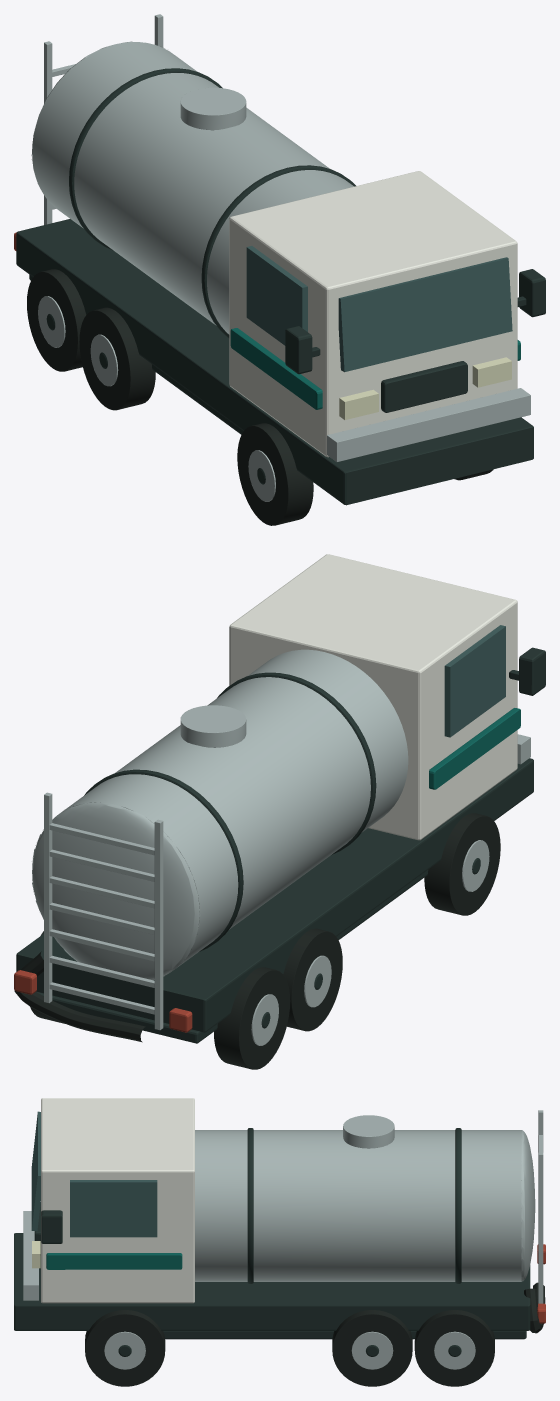
The model's file is tanker.glb.
The picture shows the model from 3 angles, top to bottom: view 1: azimuth 30°, elevation 25°; view 2: azimuth 150°, elevation 25°; view 3: azimuth 270°, elevation 25°; orthographic projection. The views are drawn at different scales.
Visible parts, largest first — view 1: Brushed stainless steel.001, Truck enamel.001, Powder coated charcoal.001, Tinted glazing.001, Rubber.001, NouDilo vehicle livery.001, Headlamp glass; view 2: Brushed stainless steel.001, Truck enamel.001, Powder coated charcoal.001, Rubber.001, Tinted glazing.001, NouDilo vehicle livery.001, Rear reflectors; view 3: Brushed stainless steel.001, Powder coated charcoal.001, Truck enamel.001, Rubber.001, Tinted glazing.001, NouDilo vehicle livery.001.
Boxes of the visible parts, x1,y1,x2,y2 form: Brushed stainless steel.001: (31, 14, 530, 501); Truck enamel.001: (229, 171, 517, 457); Powder coated charcoal.001: (16, 68, 545, 505); Tinted glazing.001: (246, 246, 512, 372); Rubber.001: (27, 269, 493, 525); NouDilo vehicle livery.001: (230, 328, 520, 409); Headlamp glass: (339, 357, 511, 419); Brushed stainless steel.001: (32, 649, 530, 1045); Truck enamel.001: (229, 554, 517, 840); Powder coated charcoal.001: (16, 647, 545, 1043); Rubber.001: (14, 813, 500, 1069); Tinted glazing.001: (444, 625, 505, 737); NouDilo vehicle livery.001: (429, 708, 520, 789); Rear reflectors: (14, 970, 192, 1032); Brushed stainless steel.001: (23, 1110, 543, 1369); Powder coated charcoal.001: (14, 1128, 530, 1356); Truck enamel.001: (41, 1098, 194, 1303); Rubber.001: (85, 1282, 545, 1386); Tinted glazing.001: (31, 1111, 157, 1237); NouDilo vehicle livery.001: (46, 1253, 182, 1269).
Bounding box in the file's own units: 3.13 × 3.39 × 7.42.
